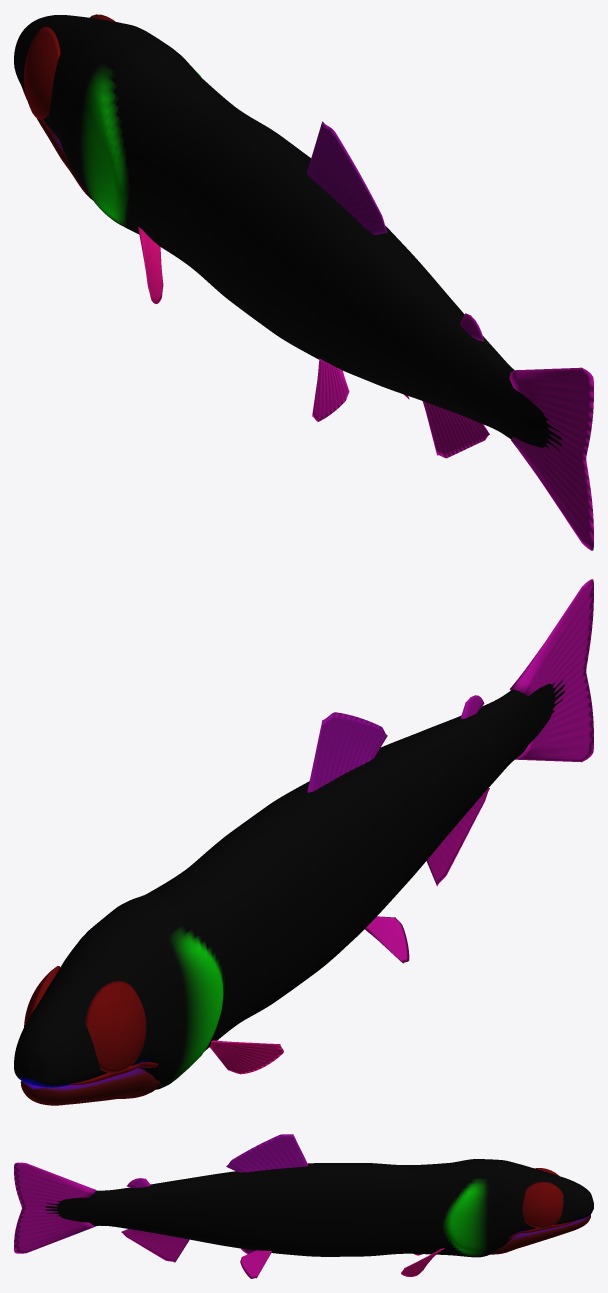
Rendered from sockeye_fry.glb.
3 views of the same model, one above another, from view 1: azimuth 30°, elevation 25°; view 2: azimuth 150°, elevation 25°; view 3: azimuth 270°, elevation 25° (orthographic). The views are drawn at different scales.
Visible parts, largest first — view 1: sockeye_fry; view 2: sockeye_fry; view 3: sockeye_fry.
Part boxes in pixels (bbox=[...]): sockeye_fry: bbox=[14, 14, 593, 550]; sockeye_fry: bbox=[14, 579, 593, 1105]; sockeye_fry: bbox=[14, 1134, 593, 1278].
Size of the model in its own units: 0.08 by 0.1491 by 0.5877.
